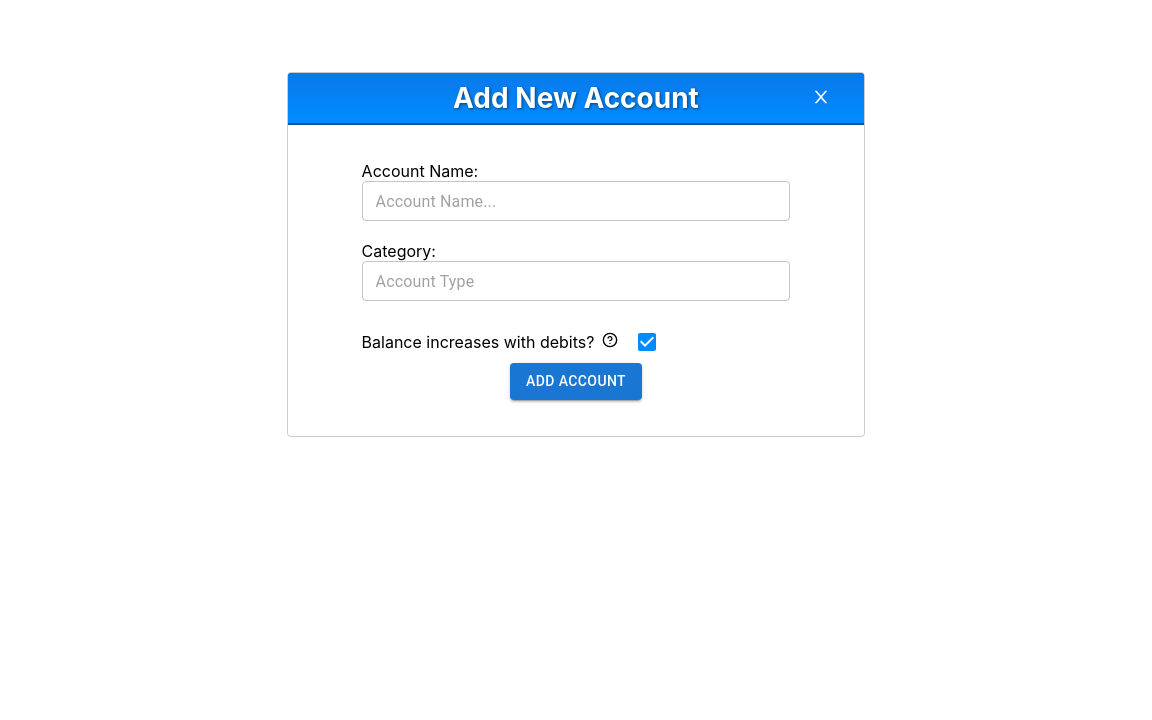
Test: NewAccountModal Component › Populates the AccountType dropdown select correctly
The width and height of the screenshot is (1152, 720).
Click the dropdown with placeholder "Account Type": (574, 281) [368,267,781,295]
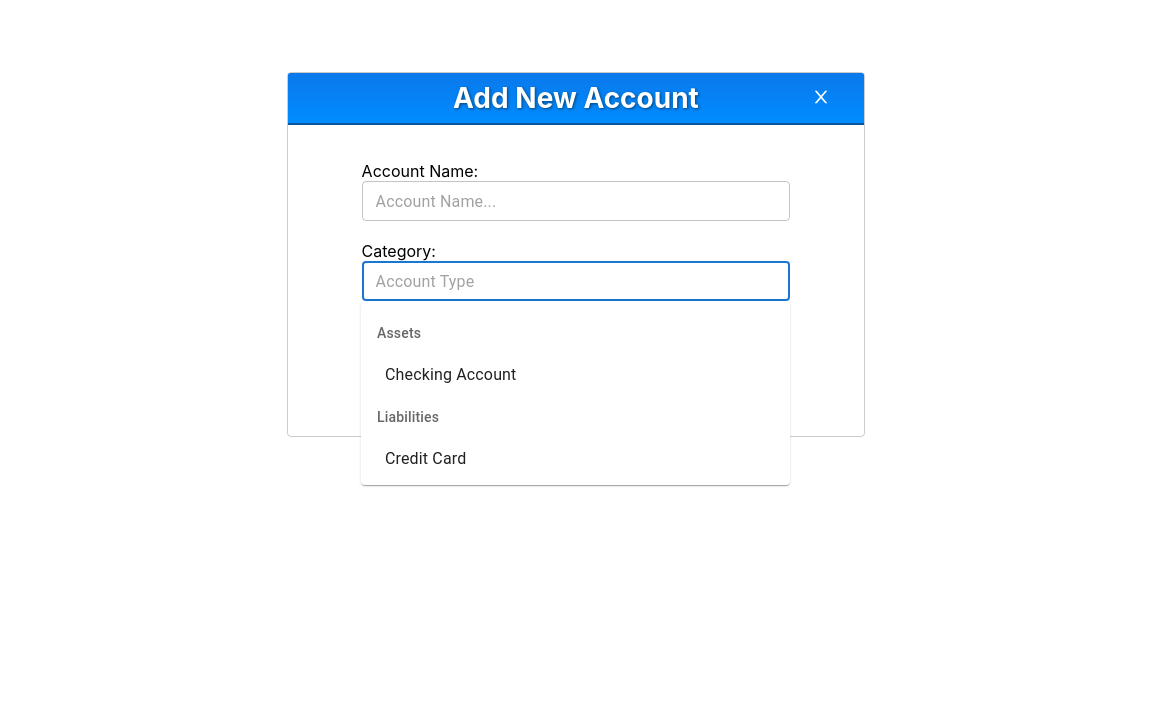
Expected: the option "Checking Account" is shown, [385,365,516,384]
Expected: the option "Credit Card" is shown, [385,449,466,468]
